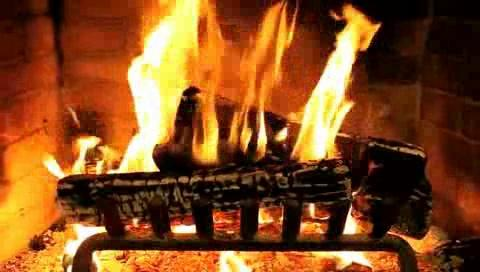fire: (116, 5, 373, 171), (43, 135, 101, 178), (69, 223, 116, 272), (338, 211, 373, 267), (213, 248, 254, 272)
